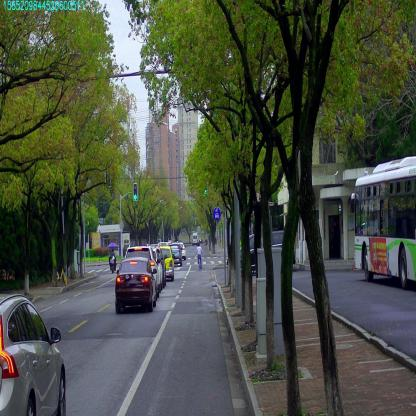traffic-light: (133, 184, 137, 200), (204, 179, 207, 195)
